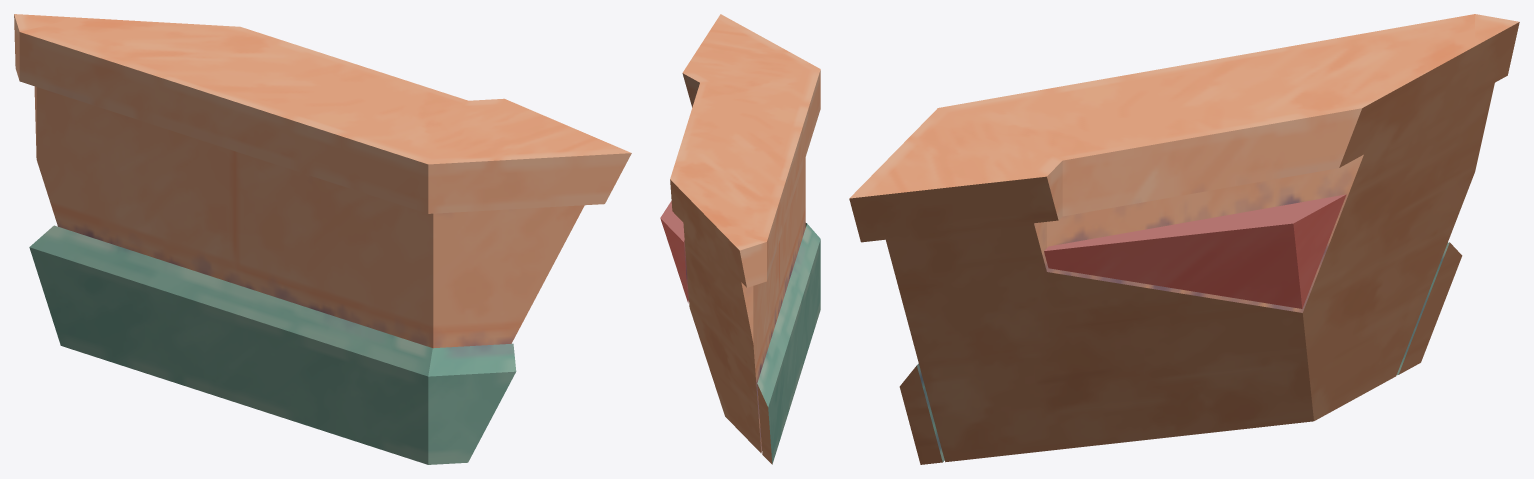
The model's file is vat_s03.fbx.
The picture shows the model from 3 angles, left to right: view 1: azimuth 30°, elevation 25°; view 2: azimuth 150°, elevation 25°; view 3: azimuth 270°, elevation 25°; orthographic projection. The views are drawn at different scales.
Parts seen in each view (by area): view 1: vat_s03; view 2: vat_s03; view 3: vat_s03.
Part boxes in pixels (bbox=[...]): vat_s03: bbox=[14, 14, 631, 464]; vat_s03: bbox=[660, 14, 820, 464]; vat_s03: bbox=[849, 14, 1519, 464].
Bounding box in the file's own units: 1.98 × 1.7 × 3.05.
